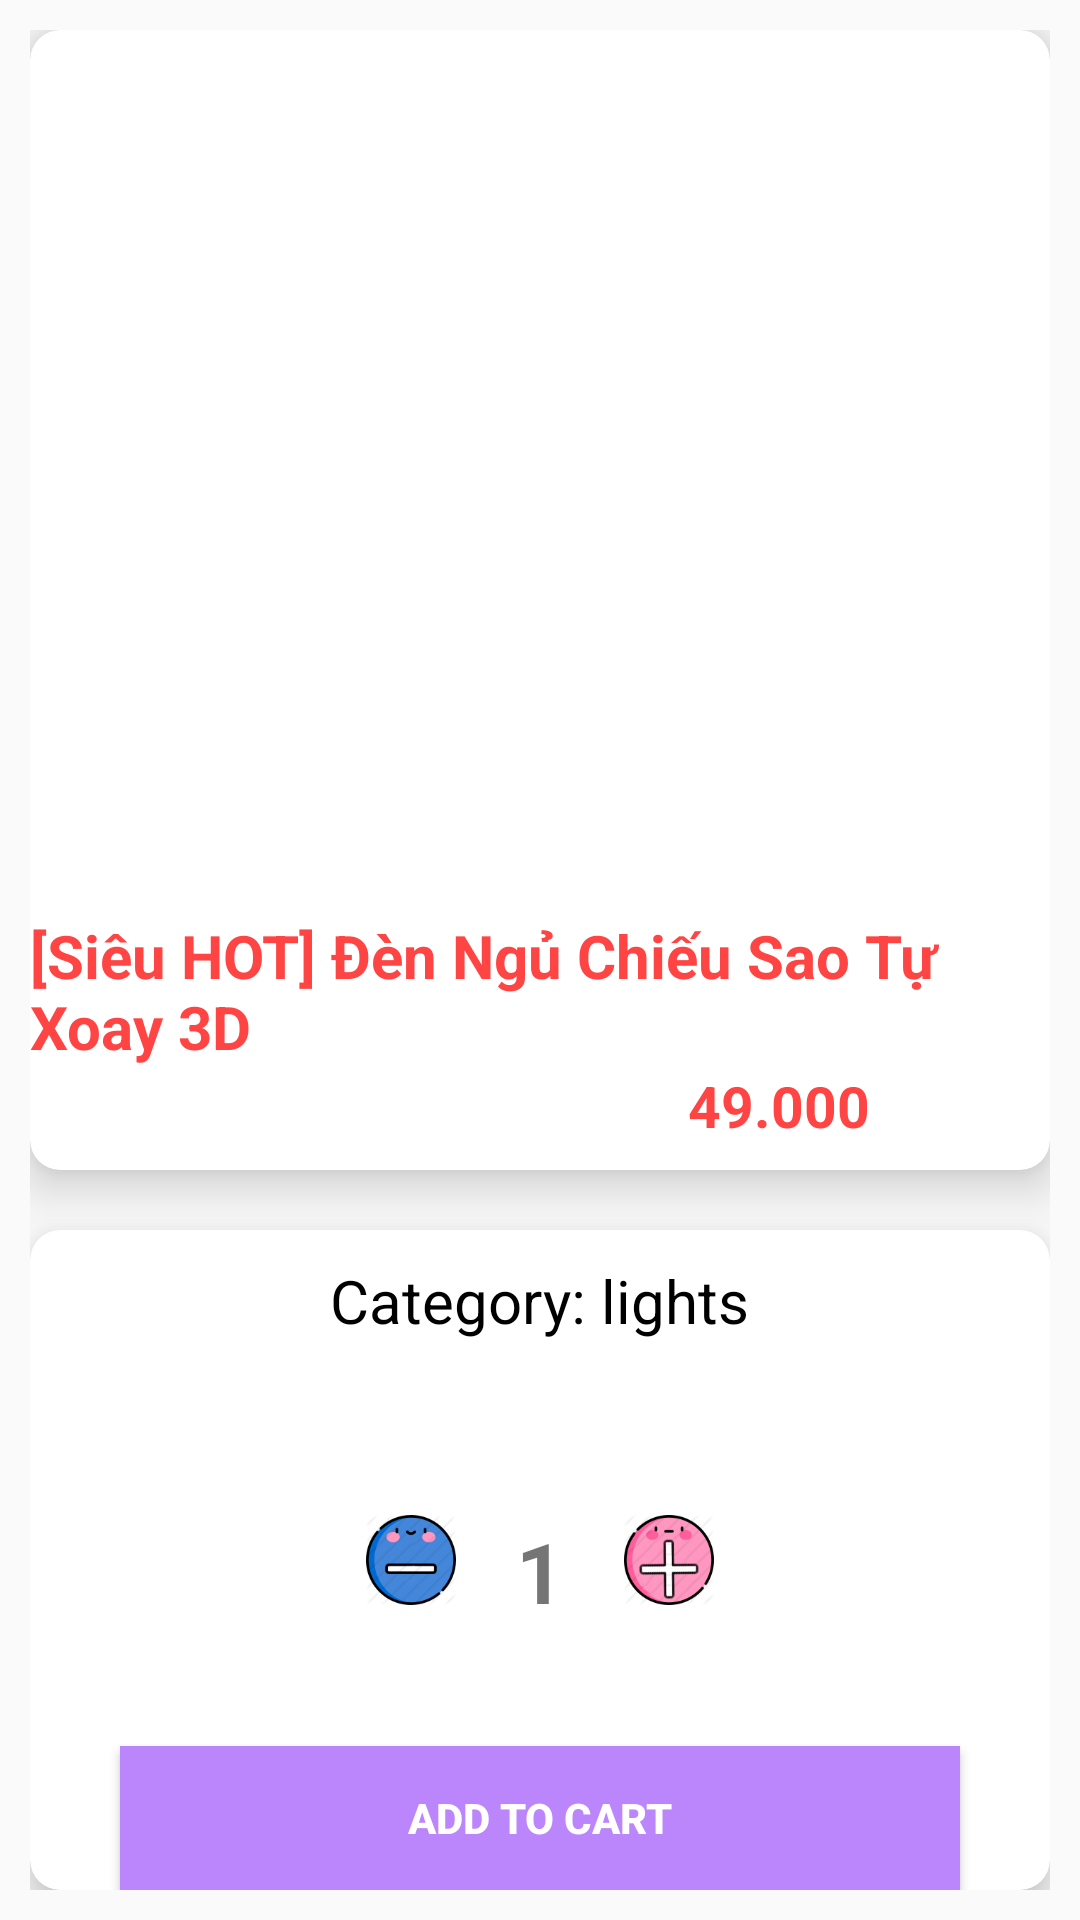

Locate icon controls on the screen. Image size 1080*1920, boxes as (x1, y1, x2, y2).
minus: (366, 1515, 456, 1605)
plus: (624, 1515, 714, 1605)
